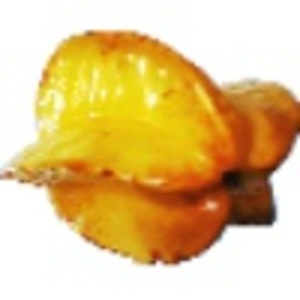carambola: (1, 29, 300, 268)
